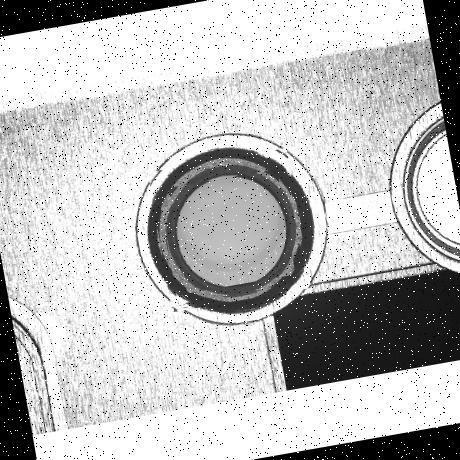Hole: (135, 135, 327, 327)
Hole2: (146, 148, 312, 312)
Hole3: (156, 156, 306, 304)
Hole4: (168, 168, 296, 294)
